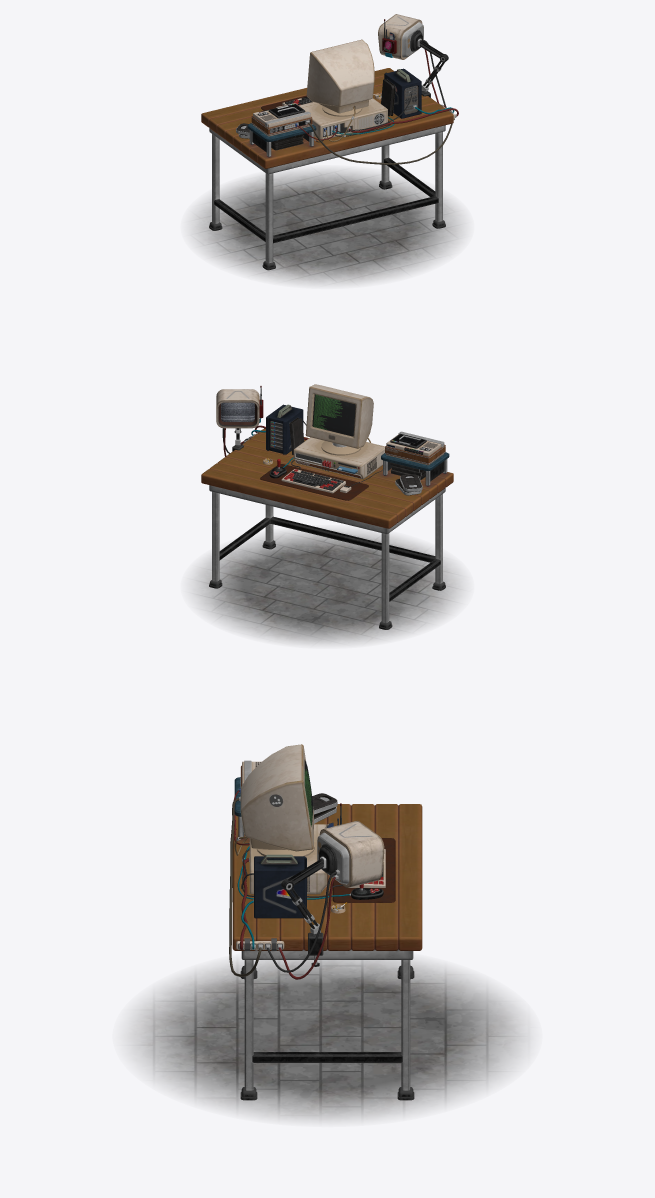
File: retro_room.glb
3 views of the same model, one above another, from view 1: azimuth 30°, elevation 25°; view 2: azimuth 150°, elevation 25°; view 3: azimuth 270°, elevation 25° (orthographic). The views are drawn at different scales.
Visible parts, largest first — view 1: Ground_ground_mat_0, table_table_mat_0, computer_computer_mat_0, Cables_cables_mat_0, Tv_tv_mat_0, vhs_vhsPlayer_mat_0, server_server_mat_0, props_props_mat_0, shelf_stand_mat_0, arm_arm_mat_0; view 2: Ground_ground_mat_0, table_table_mat_0, computer_computer_mat_0, screen_screens_0, vhs_vhsPlayer_mat_0, server_server_mat_0, props_props_mat_0, Tv_tv_mat_0, peripherals_key_mat_0, keyboard_mat_mat_mat_0, shelf_stand_mat_0; view 3: Ground_ground_mat_0, table_table_mat_0, computer_computer_mat_0, Tv_tv_mat_0, Cables_cables_mat_0, server_server_mat_0, arm_arm_mat_0, keyboard_mat_mat_mat_0, props_props_mat_0, peripherals_key_mat_0.
Part boxes in pixels (left/top/right/bottom): Ground_ground_mat_0: left=190, top=169, right=464, bottom=284; table_table_mat_0: left=201, top=68, right=453, bottom=270; computer_computer_mat_0: left=299, top=39, right=387, bottom=139; Cables_cables_mat_0: left=295, top=39, right=458, bottom=164; Tv_tv_mat_0: left=378, top=14, right=423, bottom=59; vhs_vhsPlayer_mat_0: left=251, top=103, right=312, bottom=136; server_server_mat_0: left=384, top=68, right=421, bottom=118; props_props_mat_0: left=236, top=79, right=395, bottom=150; shelf_stand_mat_0: left=247, top=123, right=316, bottom=157; arm_arm_mat_0: left=410, top=30, right=448, bottom=97; Ground_ground_mat_0: left=190, top=529, right=464, bottom=644; table_table_mat_0: left=201, top=428, right=453, bottom=629; computer_computer_mat_0: left=293, top=384, right=384, bottom=479; screen_screens_0: left=221, top=394, right=355, bottom=436; vhs_vhsPlayer_mat_0: left=385, top=431, right=445, bottom=465; server_server_mat_0: left=266, top=404, right=303, bottom=454; props_props_mat_0: left=263, top=417, right=425, bottom=495; Tv_tv_mat_0: left=216, top=386, right=263, bottom=428; peripherals_key_mat_0: left=269, top=459, right=351, bottom=493; keyboard_mat_mat_mat_0: left=260, top=464, right=368, bottom=500; shelf_stand_mat_0: left=381, top=452, right=449, bottom=486; Ground_ground_mat_0: left=126, top=959, right=528, bottom=1121; table_table_mat_0: left=232, top=804, right=422, bottom=1100; computer_computer_mat_0: left=240, top=744, right=327, bottom=894; Tv_tv_mat_0: left=317, top=803, right=384, bottom=887; Cables_cables_mat_0: left=229, top=788, right=350, bottom=979; server_server_mat_0: left=254, top=854, right=306, bottom=918; arm_arm_mat_0: left=281, top=844, right=337, bottom=966; keyboard_mat_mat_mat_0: left=332, top=838, right=395, bottom=902; props_props_mat_0: left=312, top=793, right=346, bottom=913; peripherals_key_mat_0: left=349, top=849, right=385, bottom=899.
Bounding box in the file's own units: 272 × 119 × 245.
Materials: 14 (14 with a texture image).
